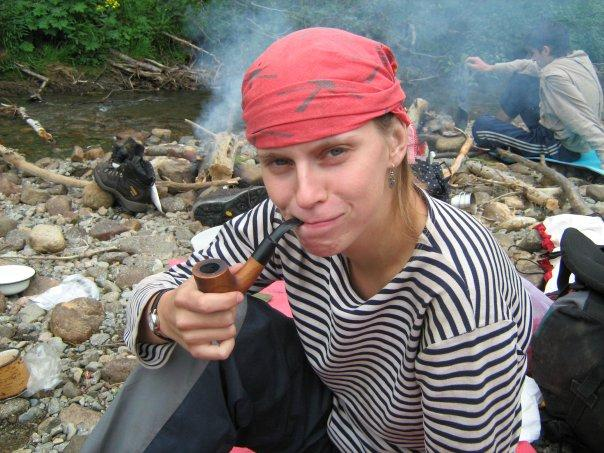trubka: (192, 218, 302, 292)
